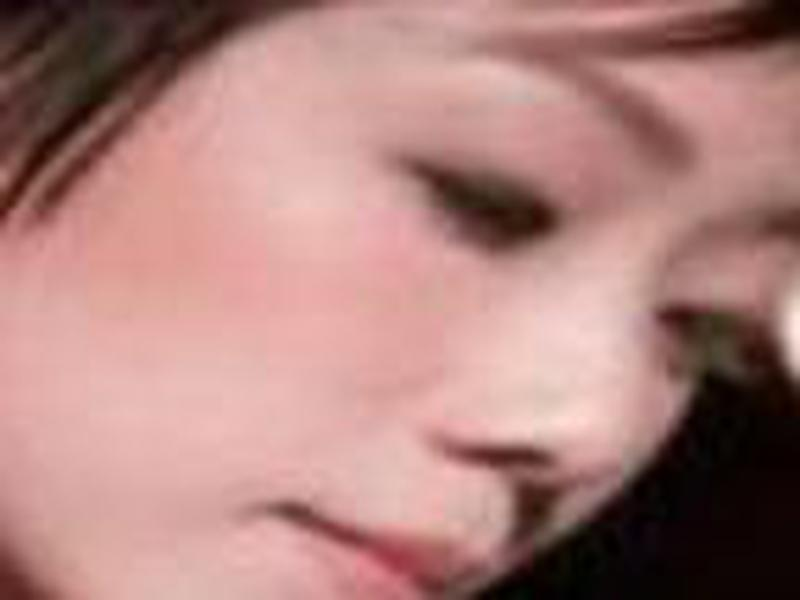without_mask: (12, 10, 783, 599)
